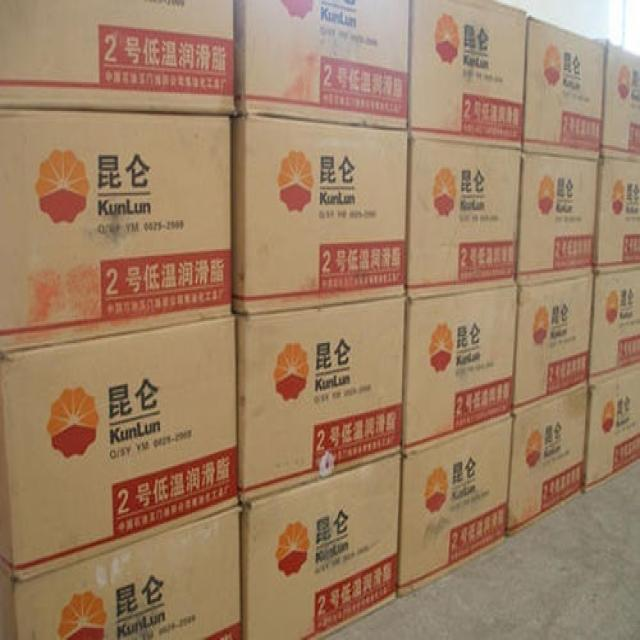box: (0, 314, 238, 582), (0, 109, 232, 350), (231, 119, 411, 316), (235, 299, 405, 503), (0, 509, 241, 638), (237, 454, 401, 638), (0, 1, 235, 117), (236, 1, 410, 129), (395, 419, 513, 600), (400, 284, 517, 453), (405, 140, 520, 297), (410, 0, 527, 150), (521, 16, 608, 159), (512, 272, 594, 420), (507, 392, 588, 538), (517, 152, 601, 284), (588, 261, 639, 391), (586, 370, 639, 494), (594, 41, 639, 160), (593, 160, 639, 267)
